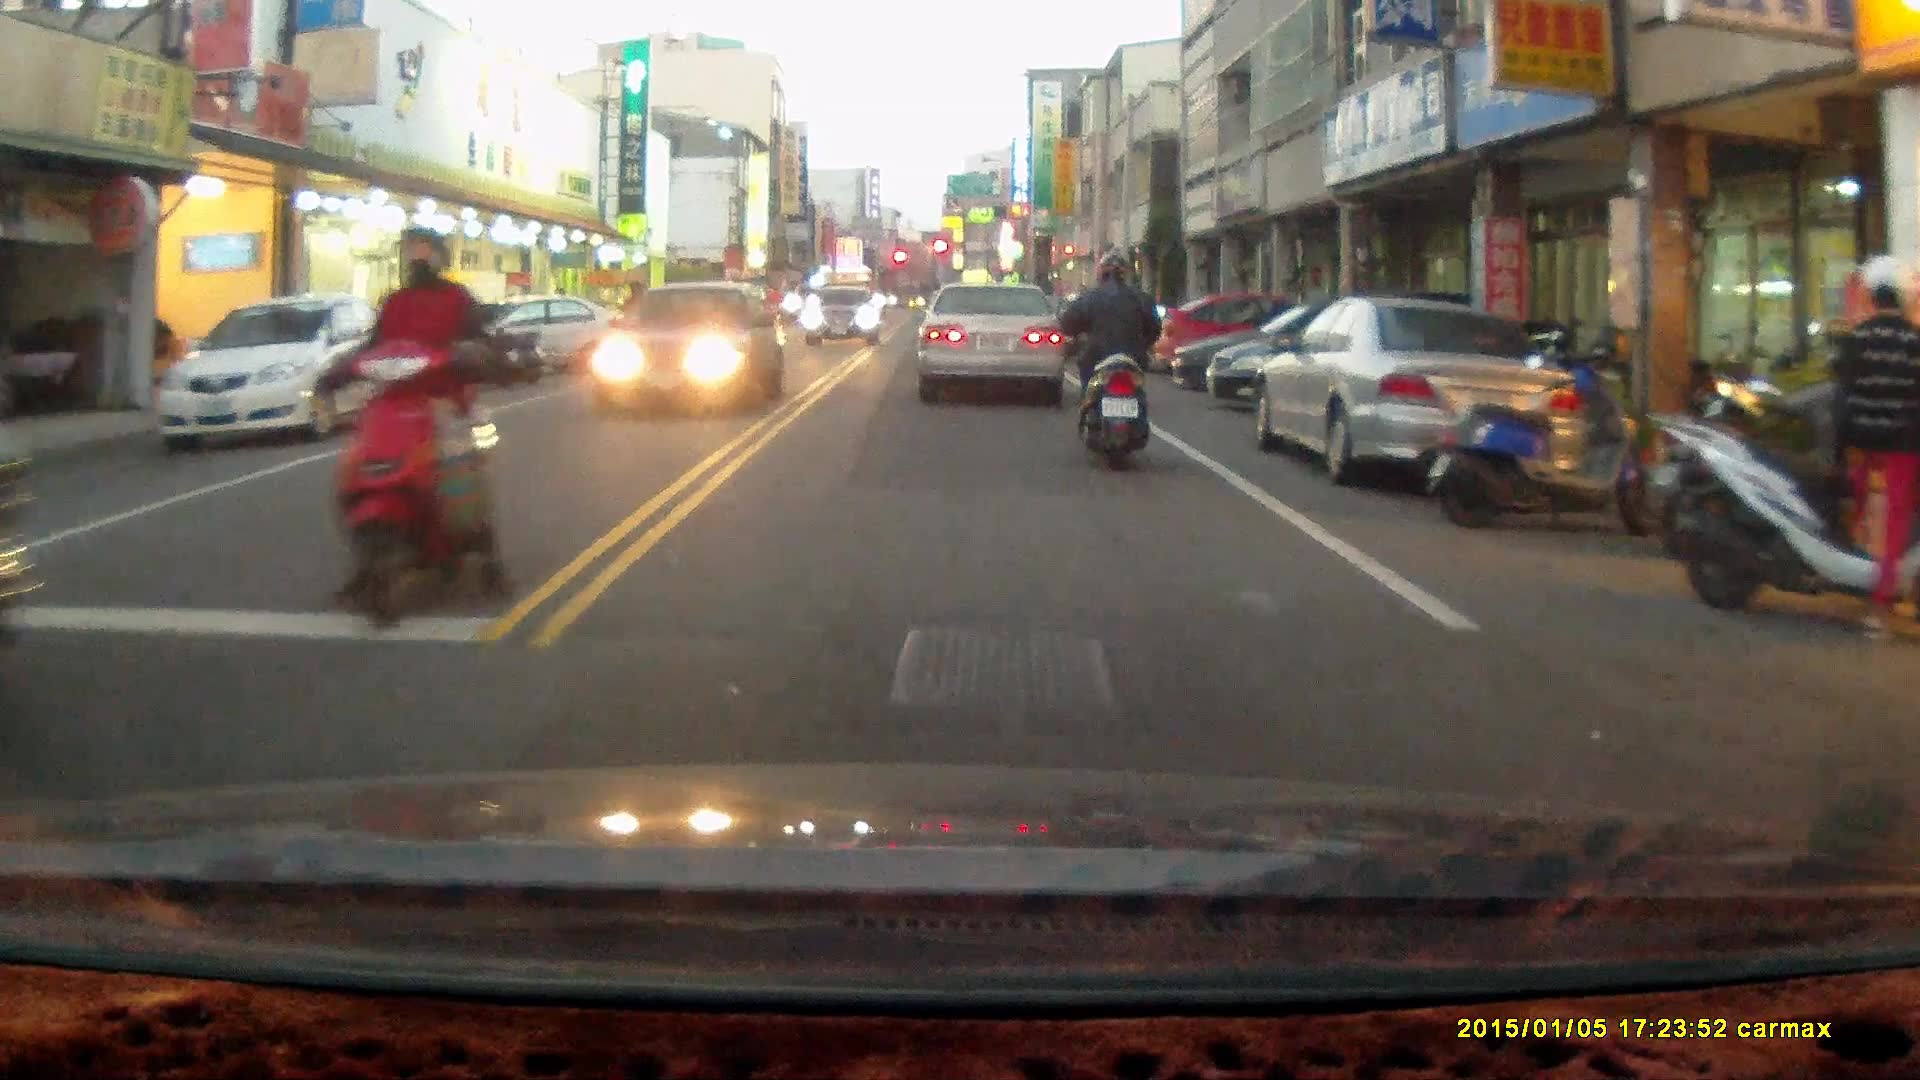pedestrian: (1834, 255, 1920, 640)
rider: (316, 218, 514, 639), (1053, 251, 1168, 473)
vehicle: (1279, 296, 1668, 480), (1243, 293, 1585, 486), (151, 288, 403, 449), (1173, 308, 1452, 401), (595, 278, 784, 413), (1152, 294, 1375, 381), (912, 283, 1068, 404), (458, 291, 610, 373), (803, 283, 883, 347)
